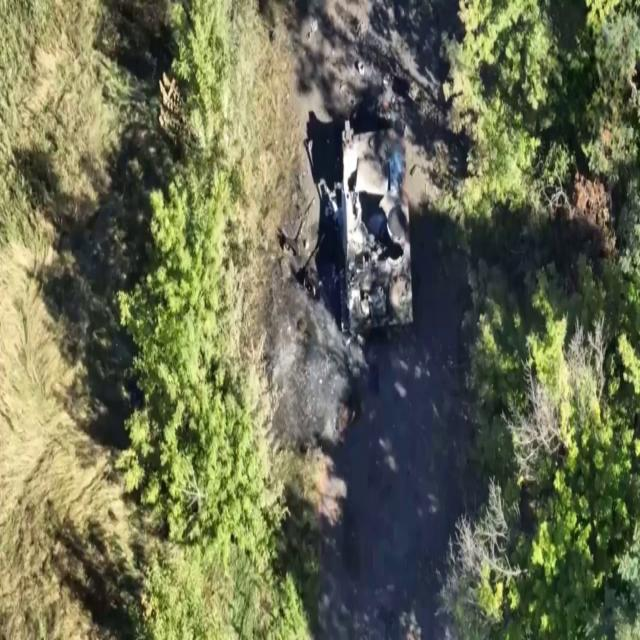Destroyed: (331, 116, 419, 342)
